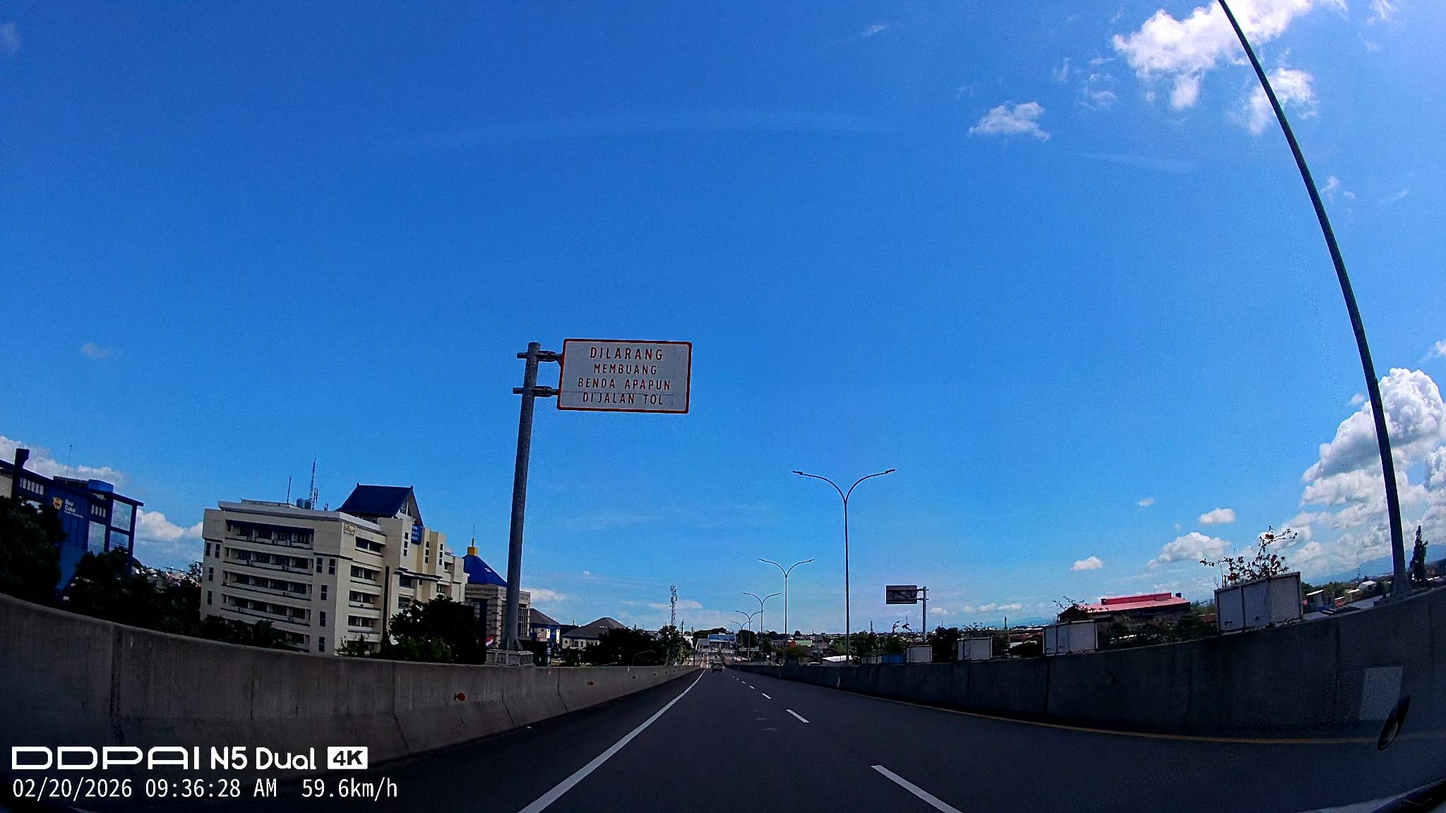rambu_teks: (556, 337, 693, 414)
